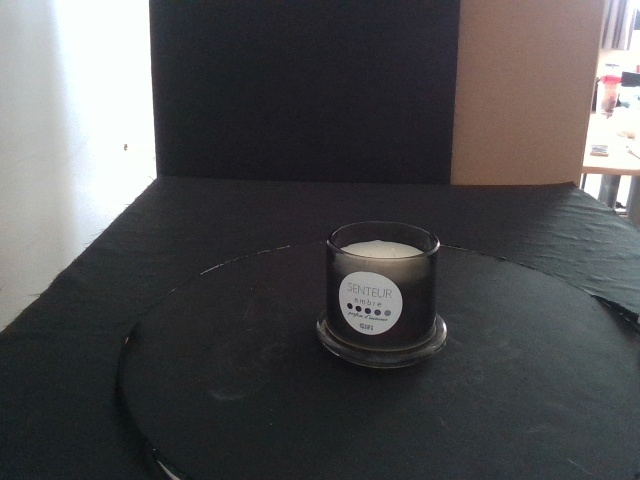candle: (315, 220, 448, 370)
